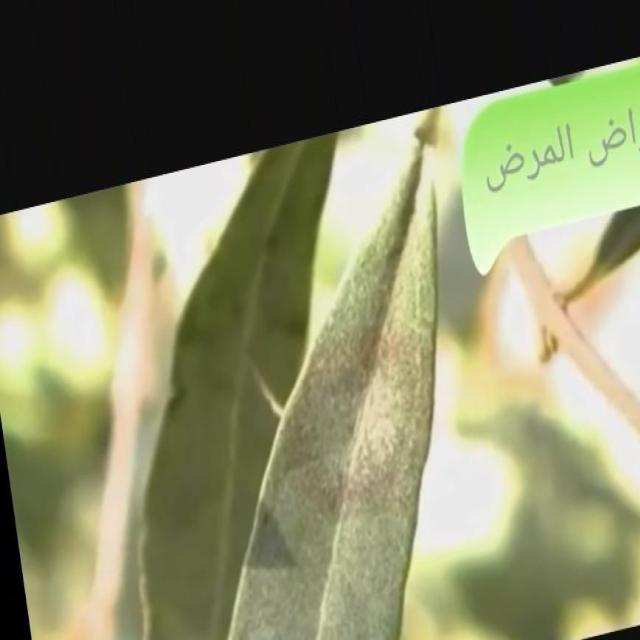Peacock Eye: (131, 135, 336, 639), (231, 154, 436, 639)
